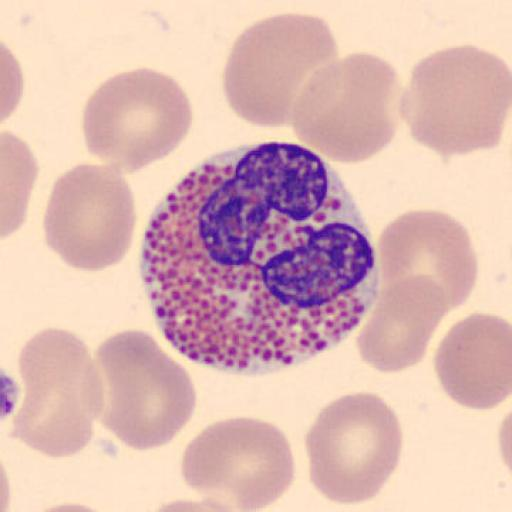RBC: (222, 11, 340, 130), (9, 325, 106, 461), (93, 328, 197, 452), (399, 43, 511, 157), (289, 51, 401, 165), (80, 65, 194, 173), (302, 390, 405, 507), (179, 414, 297, 512), (374, 207, 479, 313), (41, 160, 138, 274), (354, 272, 450, 375), (434, 310, 512, 411), (2, 128, 38, 242), (1, 37, 25, 128), (136, 495, 247, 512), (495, 392, 512, 498), (496, 405, 512, 479), (22, 502, 122, 512), (0, 453, 13, 512)
WBC: (139, 140, 377, 378), (146, 217, 382, 377)
